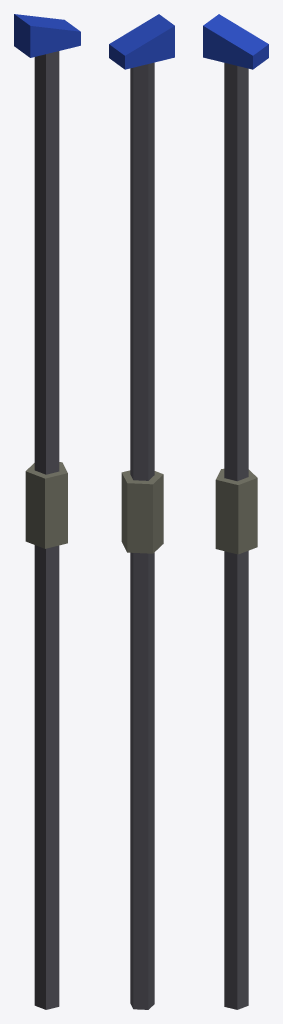
File: LPSciFiCharacter_MastB.fbx
The picture shows the model from 3 angles, left to right: view 1: azimuth 30°, elevation 25°; view 2: azimuth 210°, elevation 25°; view 3: azimuth 330°, elevation 25°; orthographic projection.
Visible parts, largest first — view 1: MastB; view 2: MastB; view 3: MastB.
Boxes of the visible parts, x1,y1,x2,y2 form: MastB: (14,14,80,1009); MastB: (109,14,174,1009); MastB: (203,14,268,1009).
Size of the model in its own units: 26.54 by 497 by 18.43.
